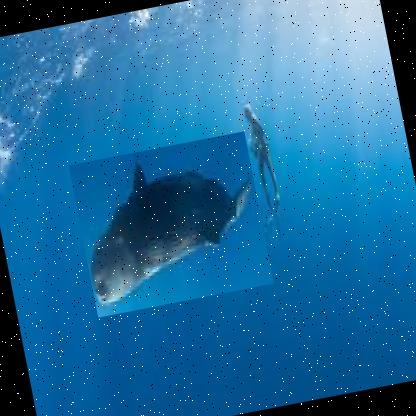sperm_whale: (67, 131, 274, 318)
